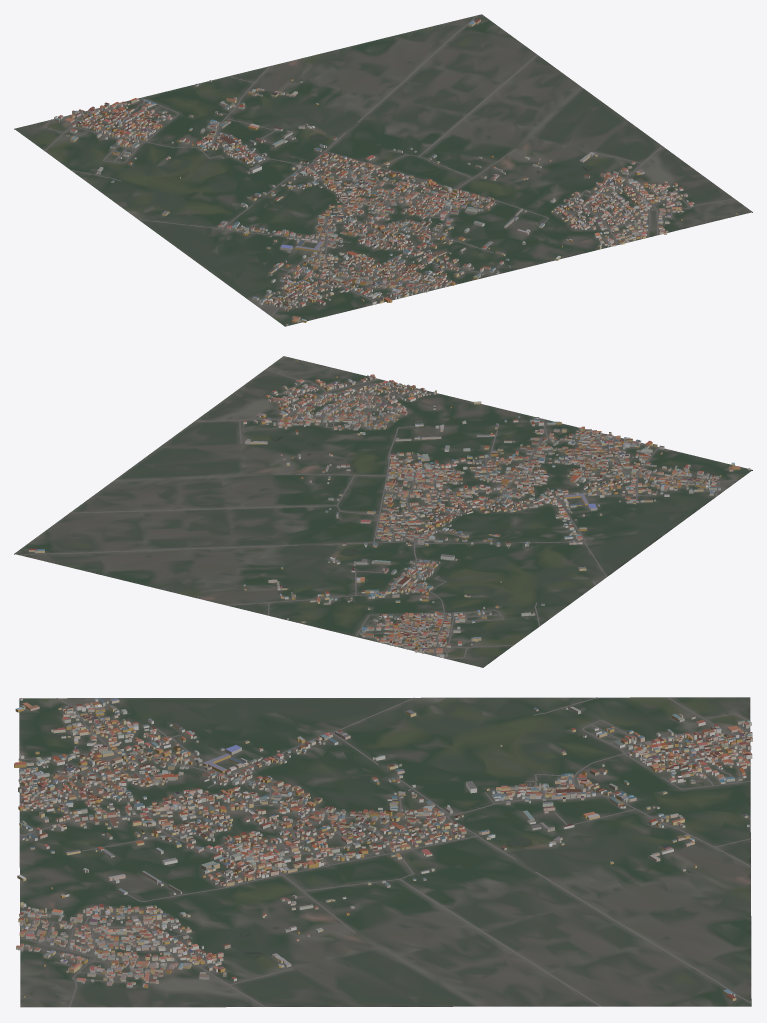
The picture shows the model from 3 angles, top to bottom: view 1: azimuth 30°, elevation 25°; view 2: azimuth 150°, elevation 25°; view 3: azimuth 270°, elevation 25°; orthographic projection. The views are drawn at different scales.
Parts seen in each view (by area): view 1: ground, buildings, roads; view 2: ground, buildings, roads; view 3: ground, buildings, roads.
Boxes of the visible parts, x1=… form: ground: x1=14, y1=14, x2=752, y2=326; buildings: x1=54, y1=18, x2=737, y2=325; roads: x1=43, y1=15, x2=734, y2=316; ground: x1=14, y1=356, x2=752, y2=667; buildings: x1=29, y1=359, x2=750, y2=657; roads: x1=19, y1=369, x2=738, y2=658; ground: x1=19, y1=697, x2=751, y2=1007; buildings: x1=14, y1=698, x2=752, y2=1001; roads: x1=19, y1=697, x2=751, y2=1007.
Bounding box in the file's own units: 1406 × 15.85 × 1417.
